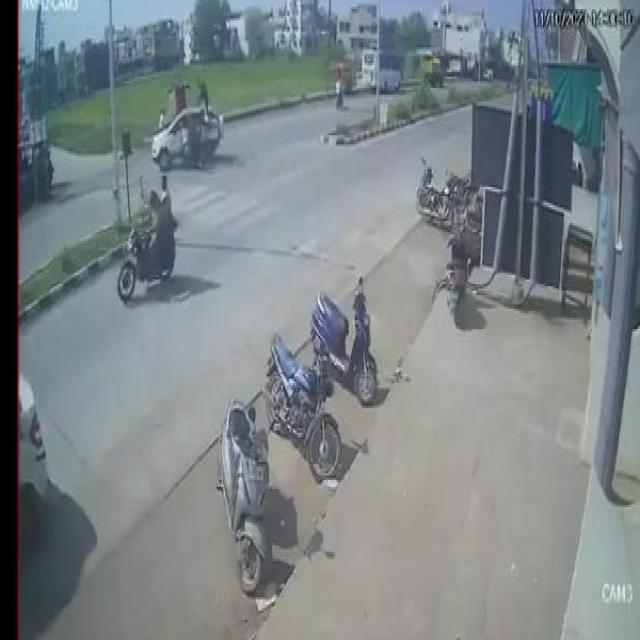accident: (143, 72, 226, 176)
